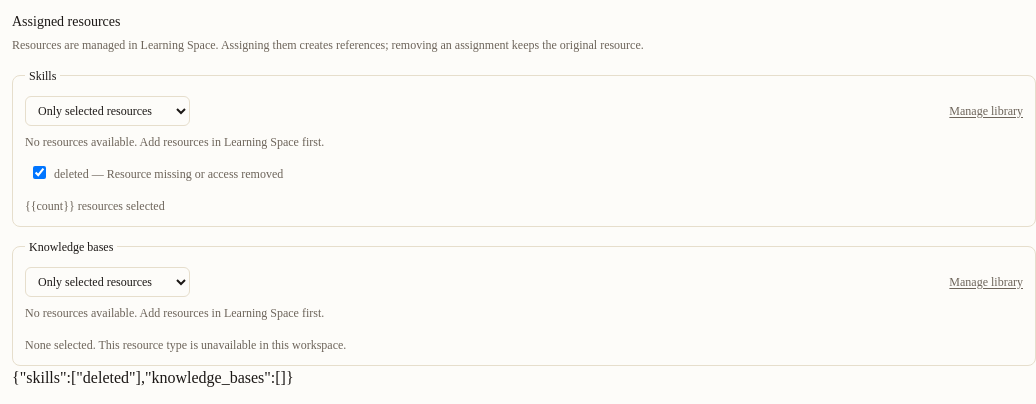
Test: keeps stale selections visible and removable instead of silently enabling everything
This screenshot has width=1036, height=404.
Click the checkbox labelled "deleted — Resource missing or access removed" at (40, 172), box 33,166 -> 46,178
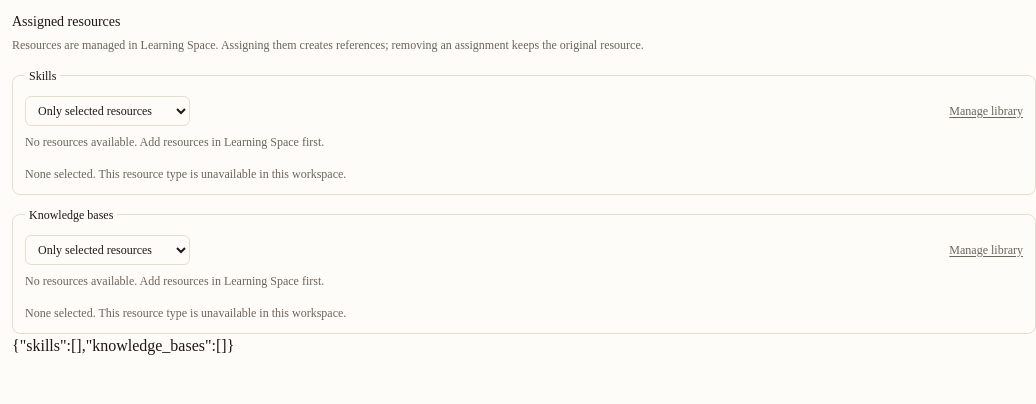
Result: the text with test id "policy" shows "\"skills\":[]" at 12,336 -> 234,354
